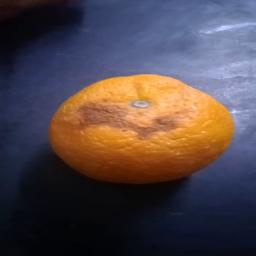Orange Semifresh: (25, 78, 246, 184)
